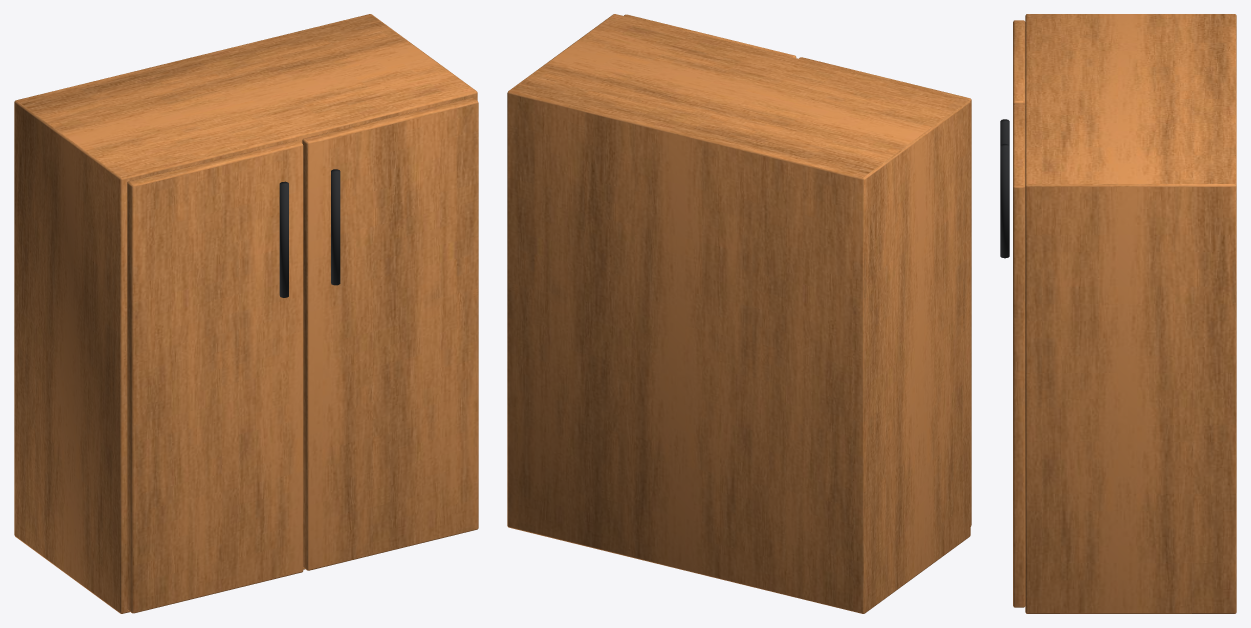
File: kitchen.upper-cabinet.glb
The picture shows the model from 3 angles, left to right: view 1: azimuth 30°, elevation 25°; view 2: azimuth 150°, elevation 25°; view 3: azimuth 270°, elevation 25°; orthographic projection.
Visible parts, largest first — view 1: kitchen.upper-cabinet.001; view 2: kitchen.upper-cabinet.001; view 3: kitchen.upper-cabinet.001.
Boxes of the visible parts, bbox=[...] form: kitchen.upper-cabinet.001: bbox=[14, 14, 478, 613]; kitchen.upper-cabinet.001: bbox=[507, 14, 971, 613]; kitchen.upper-cabinet.001: bbox=[1000, 14, 1236, 613].
Bounding box in the file's own units: 0.6 × 0.7 × 0.349.
Materials: 2 (1 with a texture image).
